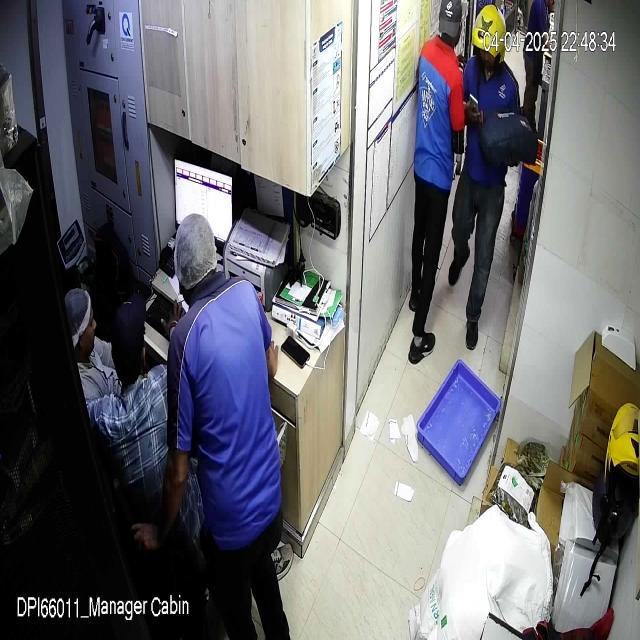helmet: (605, 403, 640, 512), (472, 4, 507, 71)
no_helmet: (173, 212, 217, 291), (64, 288, 96, 364), (438, 0, 461, 47)
